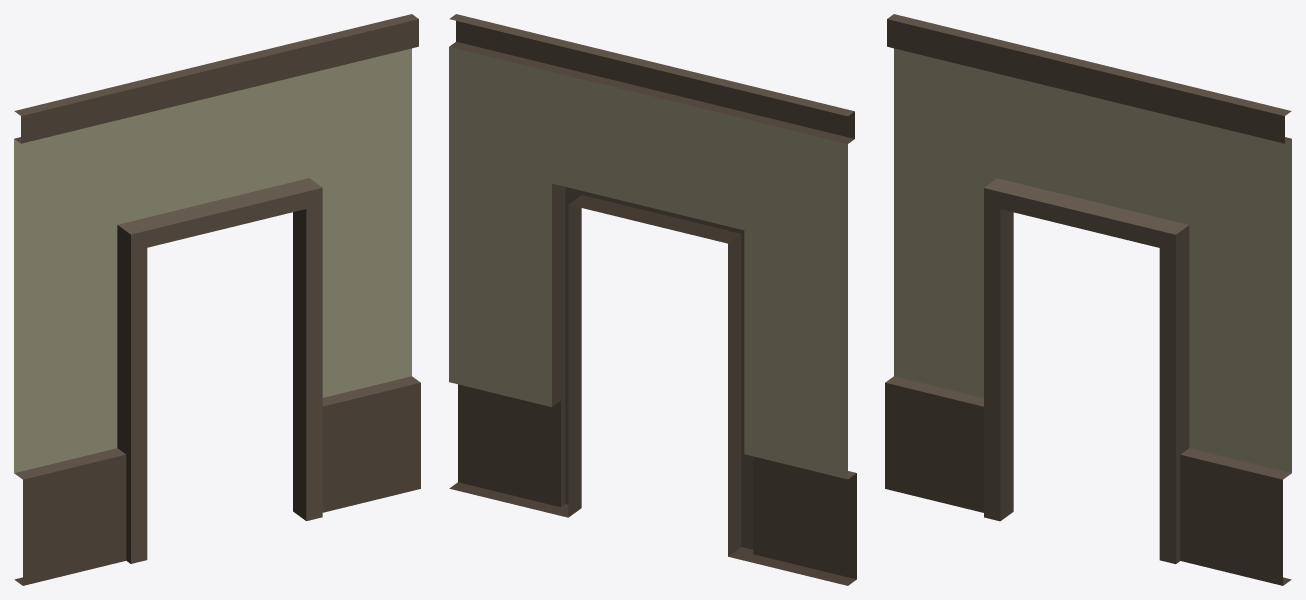
The model's file is AI_Env_Wall_Bar_DoorFrame.fbx.
3 views of the same model, side by side, from view 1: azimuth 30°, elevation 25°; view 2: azimuth 150°, elevation 25°; view 3: azimuth 330°, elevation 25° (orthographic).
Parts seen in each view (by area): view 1: AI_Env_Wall_Bar_DoorFrame; view 2: AI_Env_Wall_Bar_DoorFrame; view 3: AI_Env_Wall_Bar_DoorFrame.
Boxes of the visible parts, x1=… form: AI_Env_Wall_Bar_DoorFrame: x1=14, y1=14, x2=420, y2=585; AI_Env_Wall_Bar_DoorFrame: x1=449, y1=14, x2=856, y2=585; AI_Env_Wall_Bar_DoorFrame: x1=885, y1=14, x2=1291, y2=585.
Size of the model in its own units: 5 by 5.62 by 0.2908.
